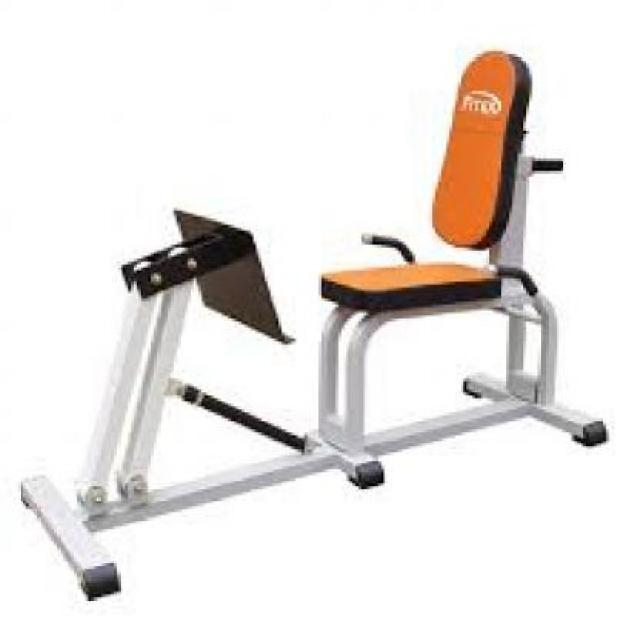leg press: (17, 34, 623, 608)
